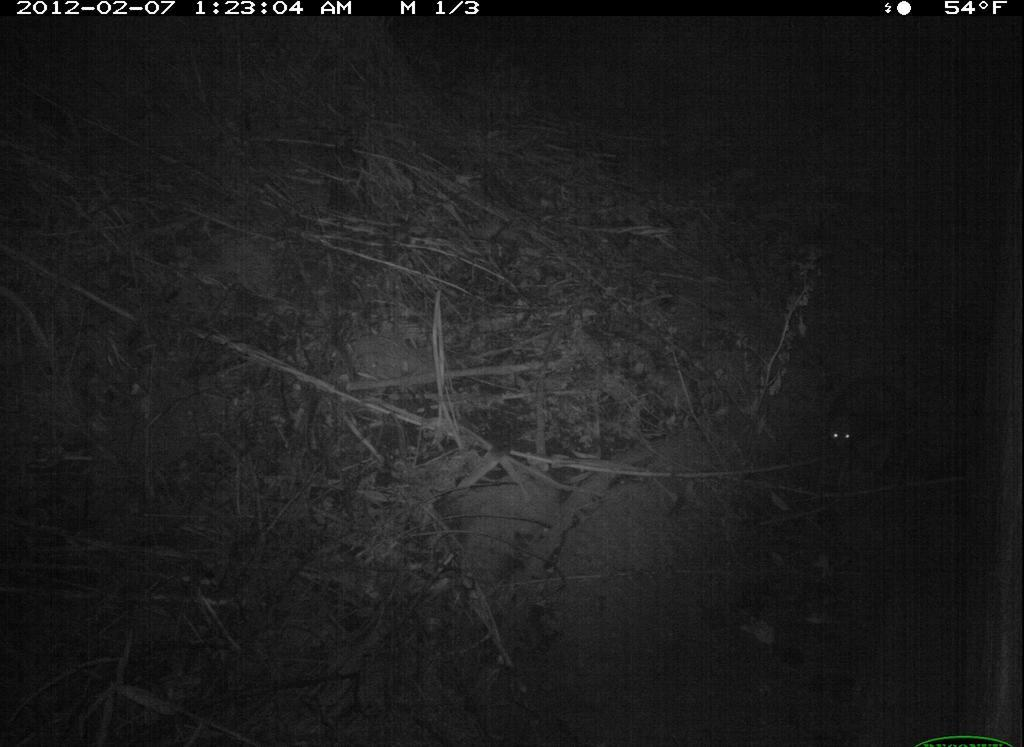opossum: (820, 356, 905, 473)
